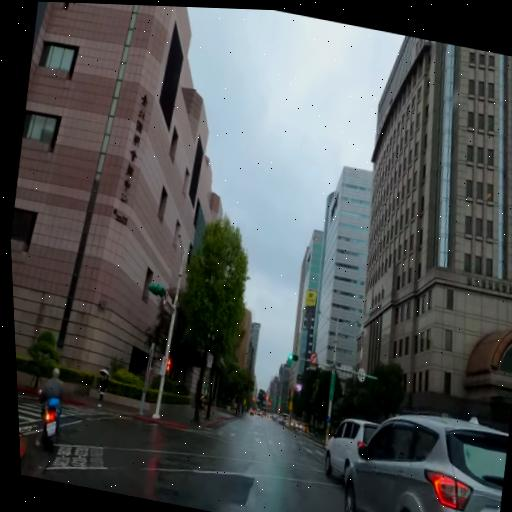Car: (331, 397, 512, 512), (318, 412, 396, 496), (280, 411, 289, 423), (294, 419, 302, 432), (300, 422, 309, 433), (289, 420, 298, 430), (297, 420, 304, 432), (278, 415, 286, 424), (248, 408, 256, 416), (284, 416, 290, 426), (272, 413, 278, 421), (266, 412, 272, 418)
